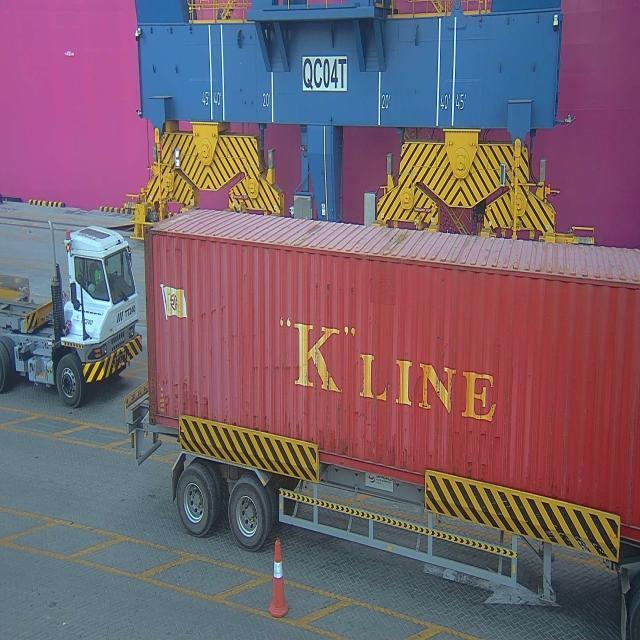rust: (313, 278, 355, 296), (323, 359, 335, 400)
